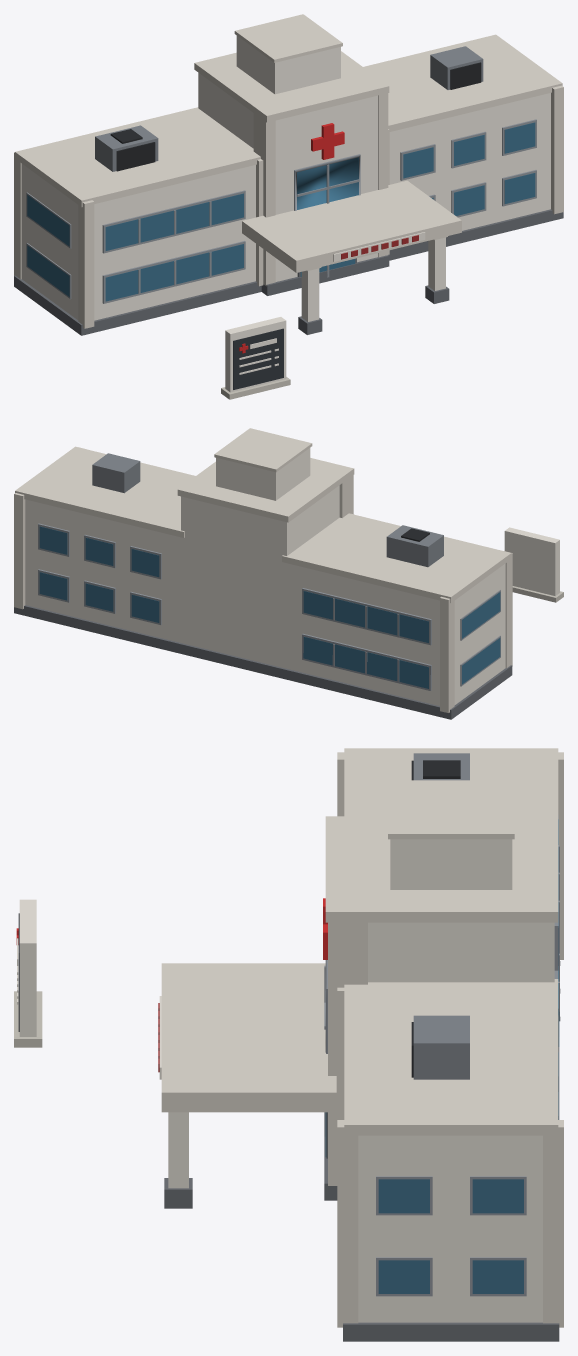
File: hospital.fbx
The picture shows the model from 3 angles, top to bottom: view 1: azimuth 30°, elevation 25°; view 2: azimuth 150°, elevation 25°; view 3: azimuth 270°, elevation 25°; orthographic projection. The views are drawn at different scales.
Parts seen in each view (by area): view 1: Right_Wing_Body, Right_Wing_Body.001; view 2: Right_Wing_Body, Right_Wing_Body.001; view 3: Right_Wing_Body, Right_Wing_Body.001.
Boxes of the visible parts, left/top/right/bottom form: Right_Wing_Body: left=14, top=14, right=563, bottom=335; Right_Wing_Body.001: left=221, top=317, right=290, bottom=399; Right_Wing_Body: left=14, top=428, right=512, bottom=719; Right_Wing_Body.001: left=504, top=527, right=563, bottom=602; Right_Wing_Body: left=158, top=748, right=563, bottom=1341; Right_Wing_Body.001: left=14, top=899, right=42, bottom=1047.
Bounding box in the file's own units: 1900 × 811 × 1170.
